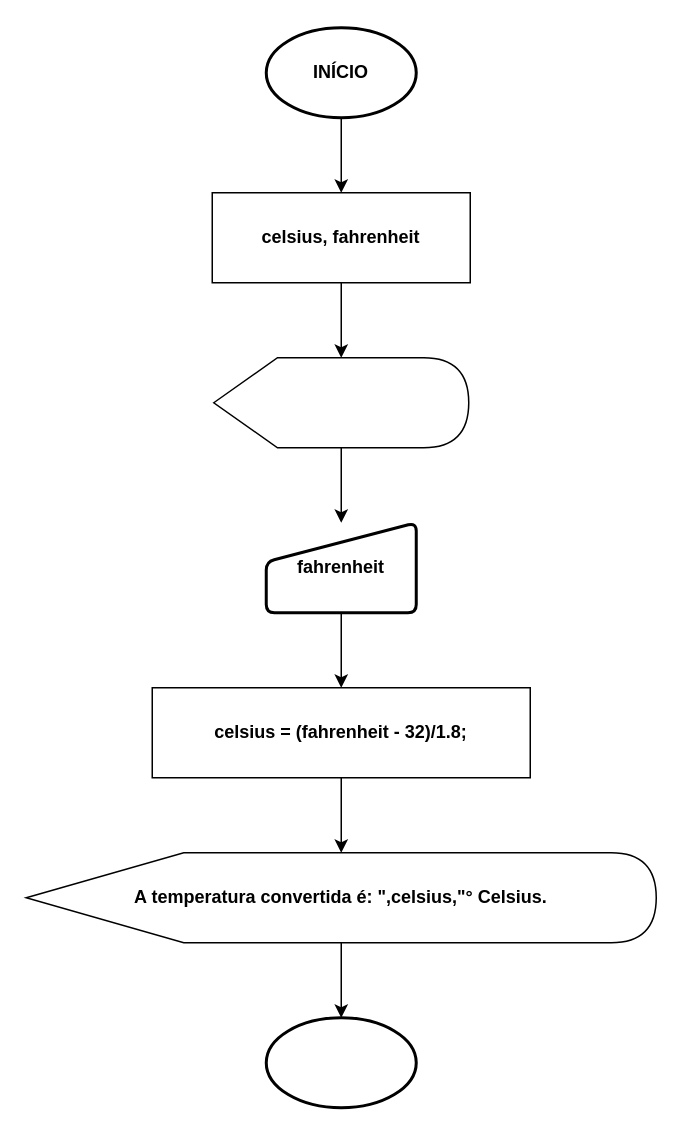
Image size: 683x1134. Some labels were removed from this diagram. Here are the shapes that lost their labels. From the top down, the centre of each, then its label:
At (340,402): "Digite a temperatura em graus Fahrenheit:".
At (340,1062): "FIM".
